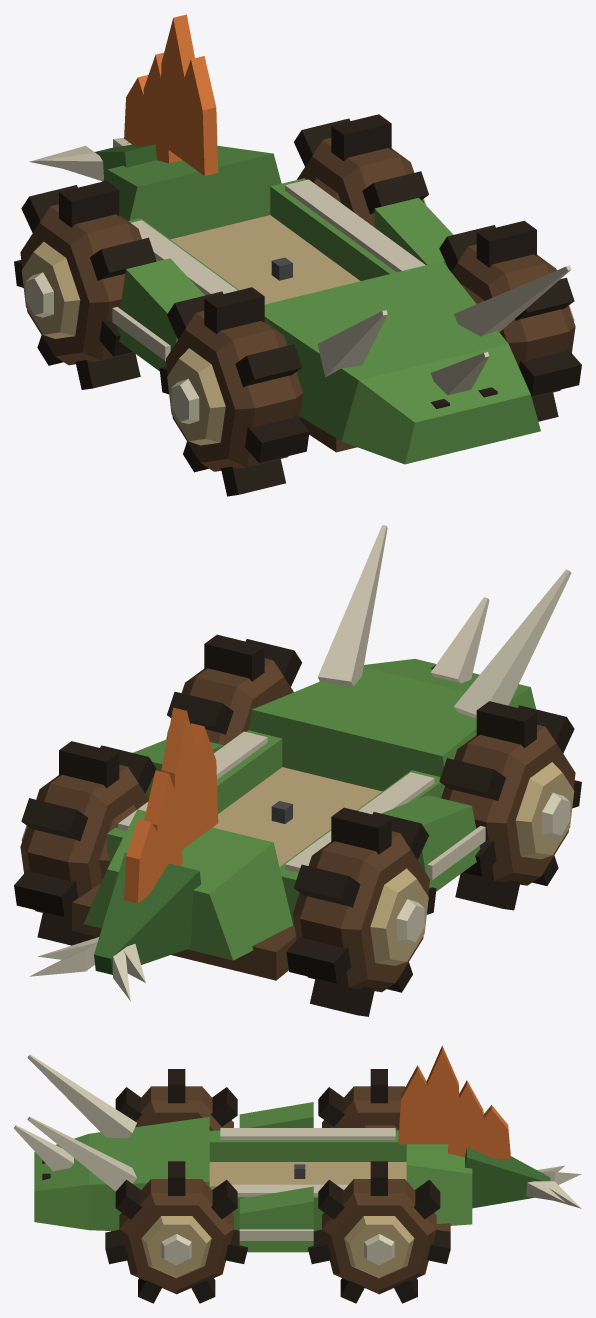
The model's file is kart-dinoValley.glb.
3 renders of one model, top to bottom at view 1: azimuth 30°, elevation 25°; view 2: azimuth 150°, elevation 25°; view 3: azimuth 270°, elevation 25°, orthographic. The views are drawn at different scales.
Parts seen in each view (by area): view 1: kart-dinoValley, wheel-front-right, wheel-back-right, wheel-front-left, wheel-back-left; view 2: kart-dinoValley, wheel-back-right, wheel-front-right, wheel-back-left, wheel-front-left; view 3: kart-dinoValley, wheel-back-left, wheel-front-left, wheel-front-right, wheel-back-right.
Part boxes in pixels (x1,y1,x2,y2): kart-dinoValley: (29, 14, 571, 464); wheel-front-right: (159, 287, 309, 496); wheel-back-right: (14, 180, 156, 389); wheel-front-left: (439, 220, 581, 421); wheel-back-left: (294, 114, 428, 227); kart-dinoValley: (29, 525, 571, 1001); wheel-back-right: (286, 807, 436, 1016); wheel-front-right: (439, 701, 581, 910); wheel-back-left: (14, 741, 156, 945); wheel-front-left: (166, 634, 301, 746); kart-dinoValley: (14, 1045, 581, 1252); wheel-back-left: (308, 1161, 450, 1303); wheel-front-left: (105, 1161, 247, 1303); wheel-front-right: (115, 1069, 237, 1130); wheel-back-right: (318, 1069, 405, 1130).
Bounding box in the file's own units: 1.12 × 0.8131 × 2.07.
